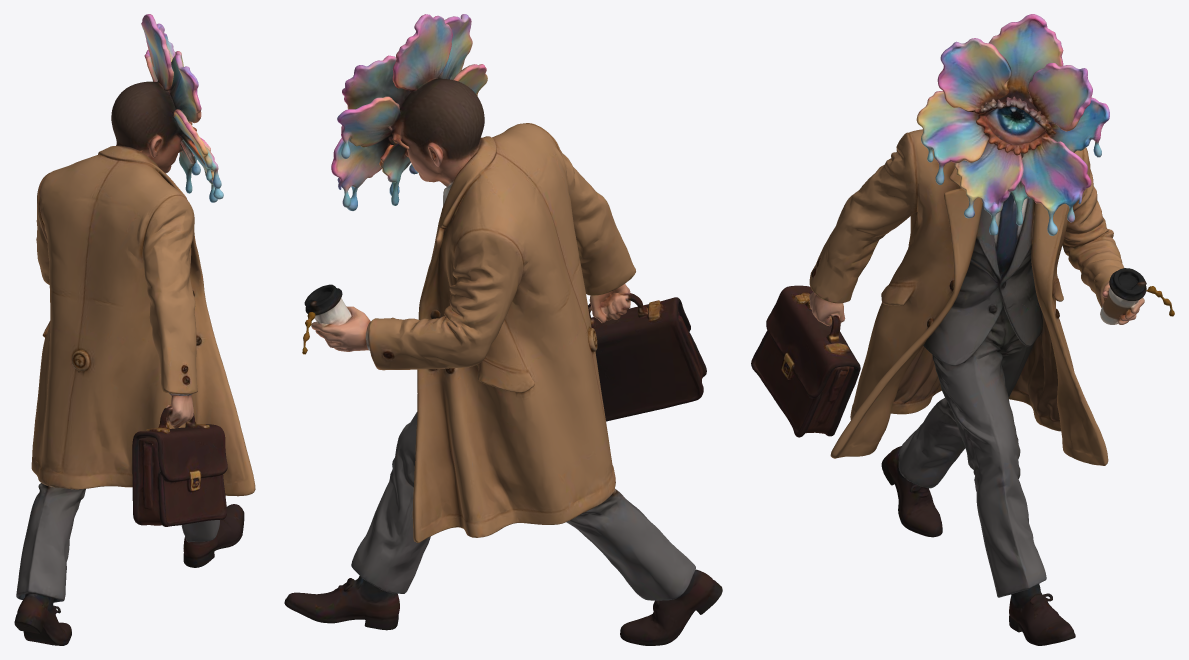
Rendered from oy_frozen.glb.
3 views of the same model, side by side, from view 1: azimuth 30°, elevation 25°; view 2: azimuth 150°, elevation 25°; view 3: azimuth 270°, elevation 25° (orthographic). The views are drawn at different scales.
Visible parts, largest first — view 1: tripo_node_91aaed4e-dfb9-4b7e-b748-01873b73799e; view 2: tripo_node_91aaed4e-dfb9-4b7e-b748-01873b73799e; view 3: tripo_node_91aaed4e-dfb9-4b7e-b748-01873b73799e.
Boxes of the visible parts, x1,y1,x2,y2 form: tripo_node_91aaed4e-dfb9-4b7e-b748-01873b73799e: (14,14,255,645); tripo_node_91aaed4e-dfb9-4b7e-b748-01873b73799e: (284,14,722,645); tripo_node_91aaed4e-dfb9-4b7e-b748-01873b73799e: (751,14,1174,645).
Size of the model in its own units: 0.5782 by 1 by 0.6495.
Materials: 1 (1 with a texture image).
